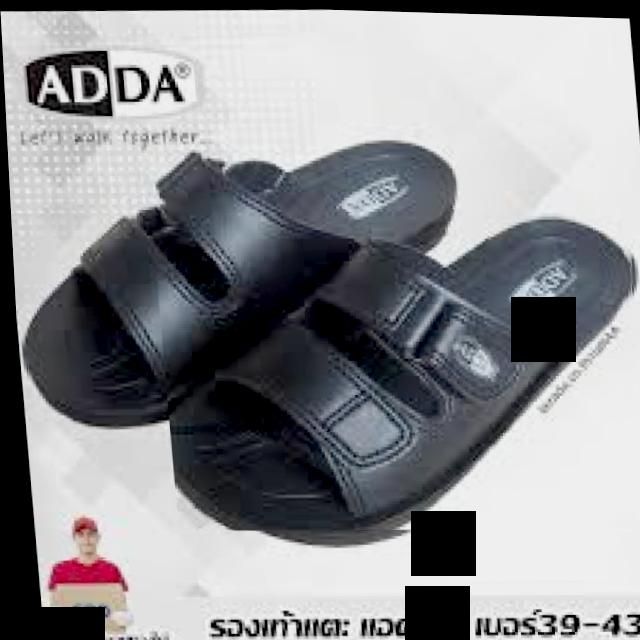shoe: (5, 121, 640, 573), (148, 195, 640, 540)
